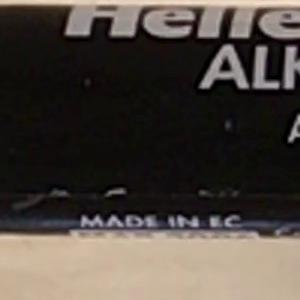keyword: (190, 37, 289, 98)
